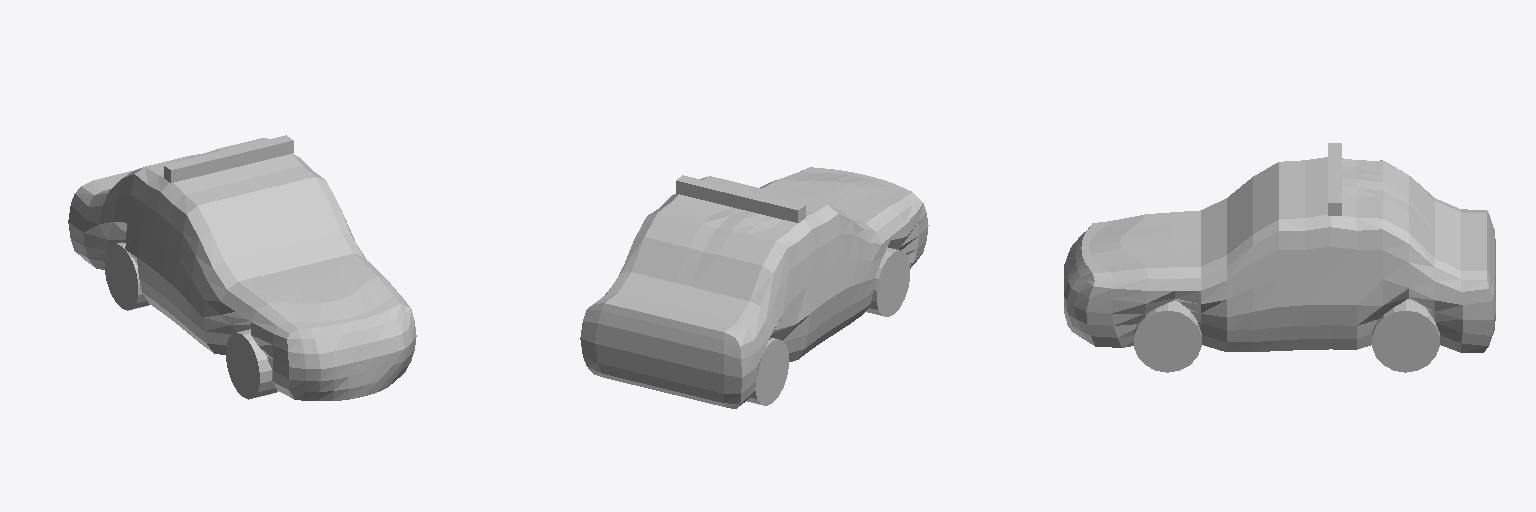
Rendered from atoka-.obj.
3 views of the same model, side by side, from view 1: azimuth 30°, elevation 25°; view 2: azimuth 150°, elevation 25°; view 3: azimuth 270°, elevation 25° (orthographic).
Visible parts, largest first — view 1: pCube1, pCube2, pCylinder1, pasted__pCylinder1 group2; view 2: pCube1, pCube2, pCylinder1, pasted__pCylinder1 group2; view 3: pCube1, pasted__pasted__pCylinder1 pasted__group group1, pasted__pCylinder1 group, pCube2.
Part boxes in pixels (x1,y1,x2,y2): pCube1: (68,138,416,400); pCube2: (164,135,293,182); pCylinder1: (226,329,277,399); pasted__pCylinder1 group2: (105,242,149,310); pCube1: (580,167,928,408); pCube2: (676,175,805,222); pCylinder1: (865,247,909,316); pasted__pCylinder1 group2: (747,338,788,405); pCube1: (1064,157,1495,352); pasted__pasted__pCylinder1 pasted__group group1: (1372,299,1439,372); pasted__pCylinder1 group: (1134,300,1201,372); pCube2: (1328,143,1341,215).
Bounding box in the file's own units: 2.14 × 2.1 × 4.95.